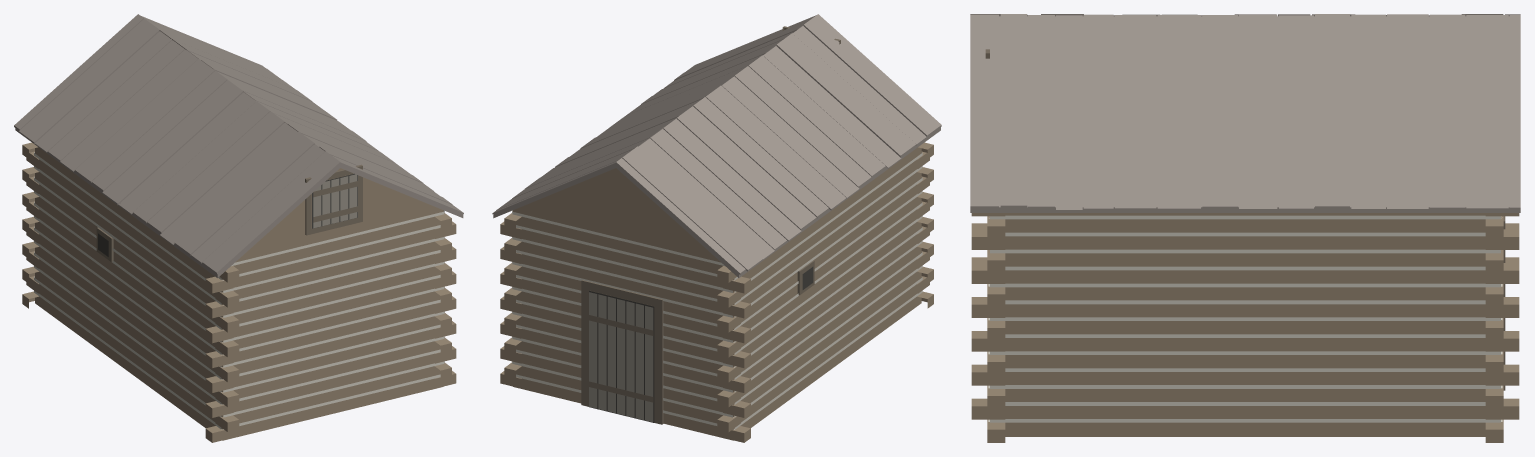
The model's file is recon_1835_blk_south_water_franklin_a1_06__inferred_1835.glb.
The picture shows the model from 3 angles, left to right: view 1: azimuth 30°, elevation 25°; view 2: azimuth 150°, elevation 25°; view 3: azimuth 270°, elevation 25°; orthographic projection. The views are drawn at different scales.
Parts seen in each view (by area): view 1: recon_1835_blk_south_water_franklin_a1_06__inferred_1835; view 2: recon_1835_blk_south_water_franklin_a1_06__inferred_1835; view 3: recon_1835_blk_south_water_franklin_a1_06__inferred_1835.
Boxes of the visible parts, bbox=[...] form: recon_1835_blk_south_water_franklin_a1_06__inferred_1835: bbox=[14, 14, 463, 442]; recon_1835_blk_south_water_franklin_a1_06__inferred_1835: bbox=[492, 14, 941, 442]; recon_1835_blk_south_water_franklin_a1_06__inferred_1835: bbox=[970, 14, 1520, 442].
Bounding box in the file's own units: 5.18 × 5.08 × 7.23.
